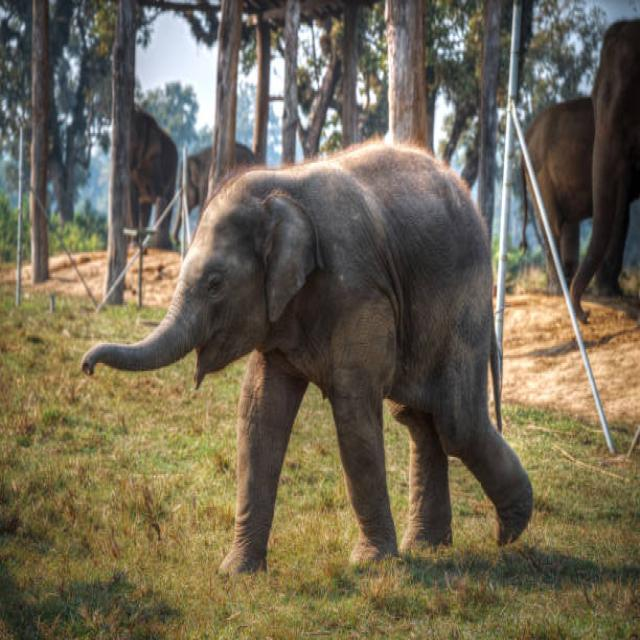Elephant: (86, 133, 544, 583)
